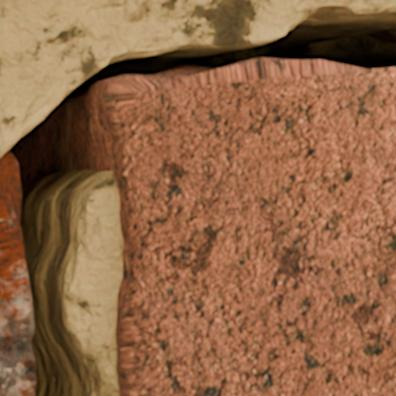brick: (99, 59, 395, 395), (0, 163, 34, 395)
crack: (0, 0, 395, 395)
